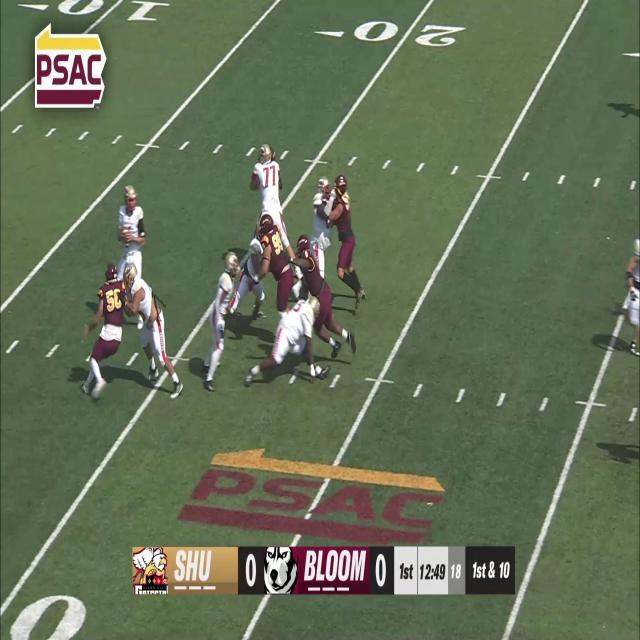football: (120, 225, 131, 248)
